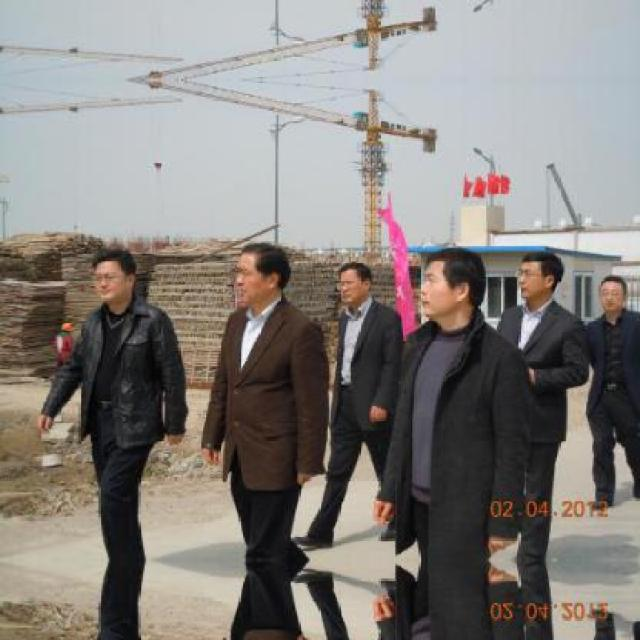no_helmet: (415, 238, 480, 324), (231, 243, 291, 306), (88, 245, 138, 306), (514, 245, 564, 300), (592, 271, 630, 317), (334, 257, 371, 303)
